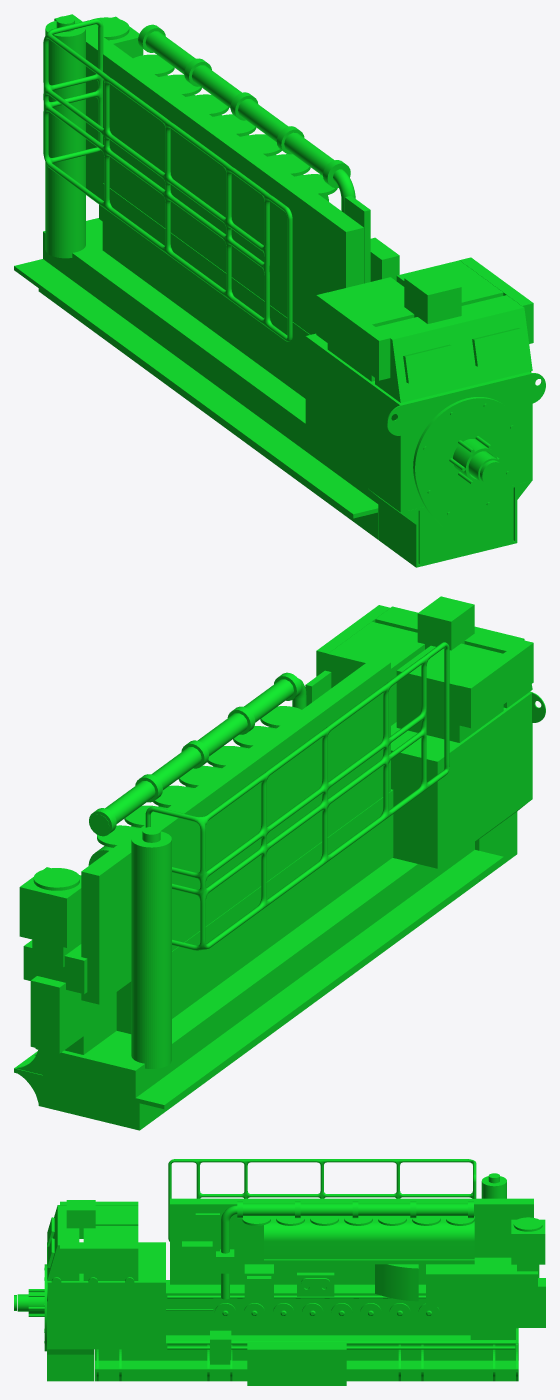
File: himsen_t1.glb
The picture shows the model from 3 angles, top to bottom: view 1: azimuth 30°, elevation 25°; view 2: azimuth 150°, elevation 25°; view 3: azimuth 270°, elevation 25°; orthographic projection. The views are drawn at different scales.
Parts seen in each view (by area): view 1: Cube.030, Cube.006, Cube.007, Cube.015, Cube.041, Cube.021, Cube.013, Circle.013, Cylinder.009, Cube.008, Plane.003, Cube.009 (+8 smaller); view 2: Cube.030, Cube.015, Cube.006, Cube.021, Cube.041, Cube.013, Cube.007, Cylinder.009, Cube.034, Cube.008, Cube.012, Plane.003 (+8 smaller); view 3: Cube.030, Cube.006, Cube.032, Cube.021, Cube.015, Cube.033, Cube.019, Cube.007, Cube.013, Cube.041, Cube.012, Cube.034 (+26 smaller).
Part boxes in pixels (box(x1,y1,x2,y2)): Cube.030: box(54, 14, 363, 334); Cube.006: box(305, 333, 532, 512); Cube.007: box(327, 260, 532, 402); Cube.015: box(43, 218, 378, 503); Cube.041: box(43, 19, 292, 341); Cube.021: box(102, 183, 310, 398); Cube.013: box(14, 259, 378, 518); Circle.013: box(413, 397, 522, 526); Cylinder.009: box(45, 20, 85, 258); Cube.008: box(316, 257, 533, 380); Plane.003: box(145, 31, 334, 175); Cube.009: box(418, 487, 513, 564); Cube.030: box(81, 658, 390, 1004); Cube.015: box(43, 842, 474, 1100); Cube.006: box(391, 691, 532, 868); Cube.021: box(116, 789, 393, 1033); Cube.041: box(145, 642, 449, 950); Cube.013: box(14, 850, 503, 1109); Cube.007: box(327, 606, 532, 742); Cylinder.009: box(131, 831, 171, 1068); Cube.034: box(30, 976, 116, 1054); Cube.008: box(316, 605, 533, 728); Cube.012: box(38, 879, 478, 1130); Plane.003: box(91, 679, 293, 832); Cube.030: box(170, 1198, 533, 1284); Cube.006: box(47, 1242, 165, 1349); Cube.032: box(264, 1216, 474, 1259); Cube.021: box(166, 1280, 470, 1335); Cube.015: box(95, 1328, 518, 1360); Cube.033: box(375, 1257, 537, 1306); Cube.019: box(247, 1342, 346, 1385); Cube.007: box(47, 1205, 138, 1280); Cube.013: box(95, 1360, 518, 1371); Cube.041: box(168, 1159, 476, 1241); Cube.012: box(95, 1372, 518, 1381); Cube.034: box(470, 1278, 545, 1339).
Bounding box in the file's own units: 1.38 × 2.35 × 6.2.
